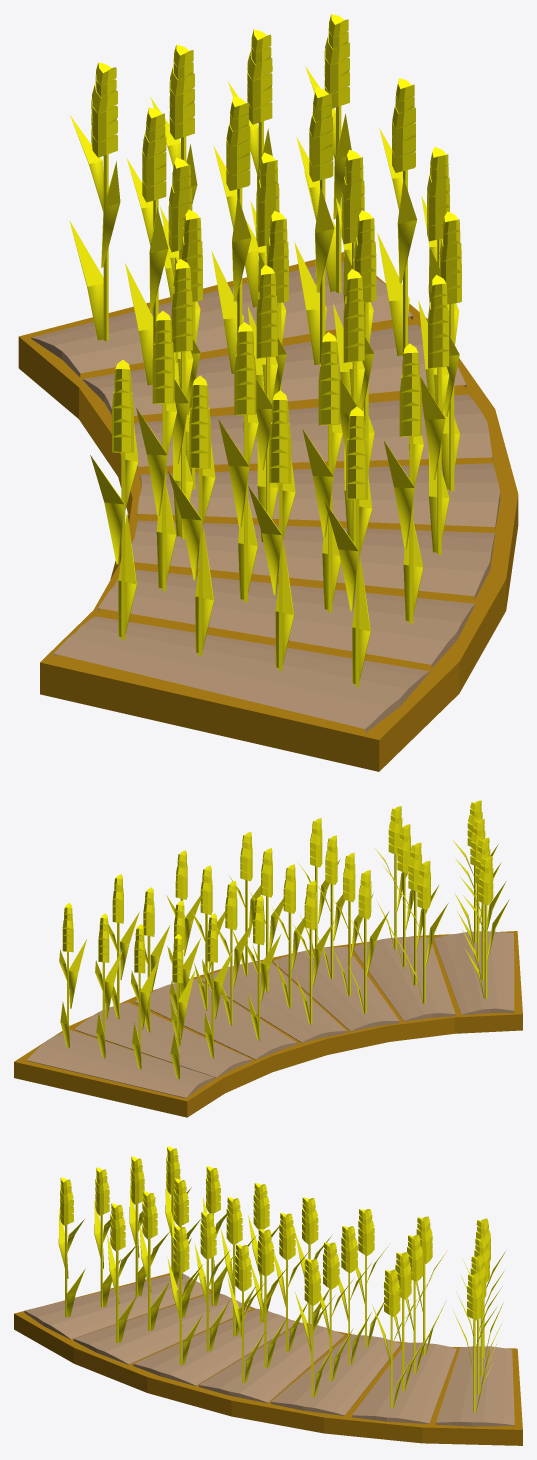
Rendered from innercircle-planted2.fbx.
The picture shows the model from 3 angles, top to bottom: view 1: azimuth 30°, elevation 25°; view 2: azimuth 150°, elevation 25°; view 3: azimuth 270°, elevation 25°; orthographic projection. The views are drawn at different scales.
Parts seen in each view (by area): view 1: Cylinder.041, Cube.002, Cube.009, Cube.006, Cube.008, Cube.031, Cube.033, Cube.032, Cube.030, Cube.010, Cube.027, Cube.026 (+17 smaller); view 2: Cylinder.041, Cube.003, Cube.005, Cube.002, Cube.008, Cube.001, Cube.016, Cube.012, Cube.031, Cube.014, Cube.021, Cube.006 (+17 smaller); view 3: Cylinder.041, Cube.026, Cube.028, Cube.024, Cube.022, Cube.030, Cube.017, Cube.032, Cube.011, Cube.015, Cube.033, Cube.021 (+17 smaller).
Part boxes in pixels (x1,y1,x2,y2): Cylinder.041: (18,252,518,771); Cube.002: (69,62,120,341); Cube.009: (294,87,334,365); Cube.006: (377,78,416,356); Cube.008: (125,107,168,385); Cube.031: (90,360,138,639); Cube.033: (168,375,215,655); Cube.032: (248,390,295,670); Cube.030: (325,406,372,686); Cube.010: (211,96,251,373); Cube.027: (136,310,177,590); Cube.026: (383,343,423,623); Cylinder.041: (14,931,522,1117); Cube.003: (95,913,122,1058); Cube.005: (131,924,158,1069); Cube.002: (169,934,195,1079); Cube.008: (202,913,232,1058); Cube.001: (59,903,86,1047); Cube.016: (293,880,334,1025); Cube.012: (245,895,281,1040); Cube.031: (463,856,509,999); Cube.014: (217,880,252,1025); Cube.021: (273,864,305,1008); Cube.006: (108,874,139,1019); Cylinder.041: (14,1273,522,1445); Cube.026: (107,1203,137,1342); Cube.028: (139,1191,169,1330); Cube.024: (194,1212,230,1351); Cube.022: (167,1226,202,1365); Cube.030: (58,1177,85,1317); Cube.017: (250,1229,288,1367); Cube.032: (94,1167,120,1307); Cube.011: (295,1258,335,1397); Cube.015: (227,1244,265,1383); Cube.033: (129,1156,155,1296); Cube.021: (273,1213,310,1351).
Bounding box in the file's own units: 2143 × 993 × 2897.
